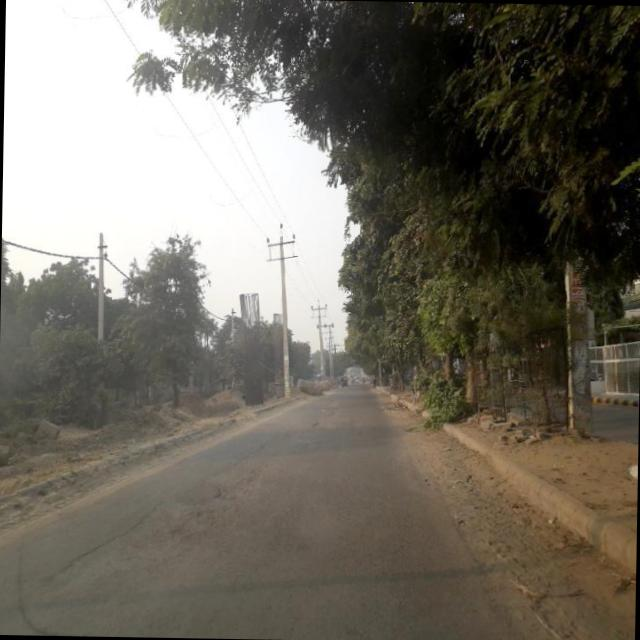crack: (66, 493, 170, 577)
pothole: (198, 454, 266, 516)
